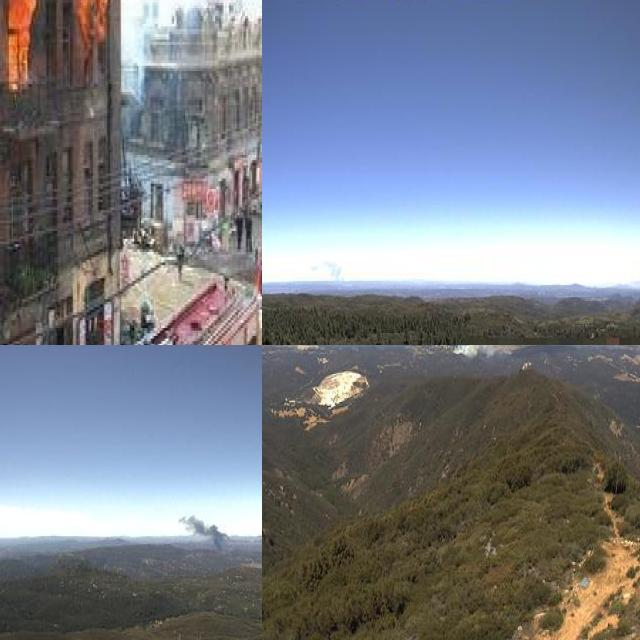fire: (75, 0, 108, 55)
smoke: (175, 504, 232, 553), (306, 256, 354, 289)
